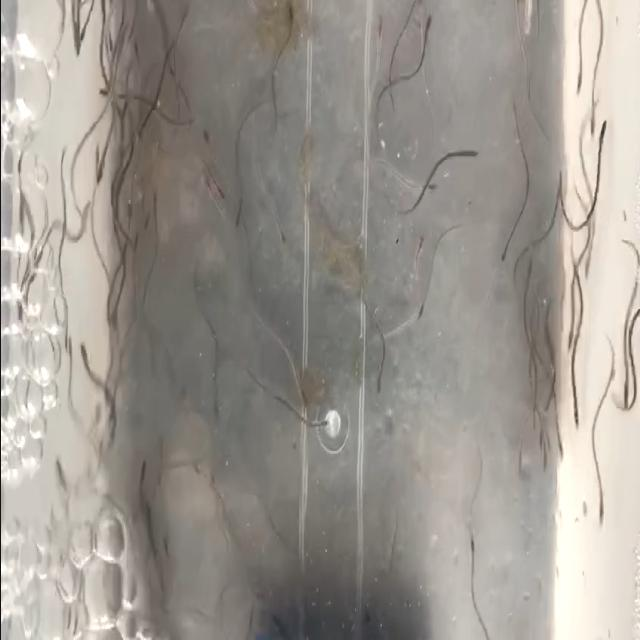active_glass_eel: (582, 463, 611, 535), (563, 378, 593, 443), (612, 374, 636, 429), (456, 130, 482, 178), (88, 215, 110, 263), (494, 234, 514, 282), (108, 286, 128, 334), (12, 181, 28, 239), (570, 44, 586, 100), (583, 84, 599, 138), (295, 560, 311, 614), (136, 452, 154, 500), (550, 424, 566, 474), (99, 22, 117, 66), (93, 132, 114, 168), (82, 342, 98, 389), (595, 114, 610, 163), (204, 391, 223, 429), (314, 400, 330, 444), (194, 122, 214, 157), (270, 211, 288, 249), (462, 532, 480, 568), (148, 176, 162, 222), (548, 168, 568, 200), (420, 11, 437, 48), (410, 298, 432, 326), (369, 365, 387, 399), (280, 2, 298, 36), (293, 380, 309, 418), (231, 197, 245, 239), (28, 249, 44, 285), (205, 190, 219, 230), (59, 321, 75, 356), (208, 170, 224, 204), (52, 450, 70, 480), (562, 322, 576, 358), (64, 334, 76, 376), (370, 20, 386, 51), (96, 78, 112, 108), (128, 33, 142, 65), (422, 176, 440, 200), (412, 232, 427, 260), (88, 191, 99, 223), (73, 28, 83, 62), (411, 0, 426, 20), (206, 470, 216, 494)
